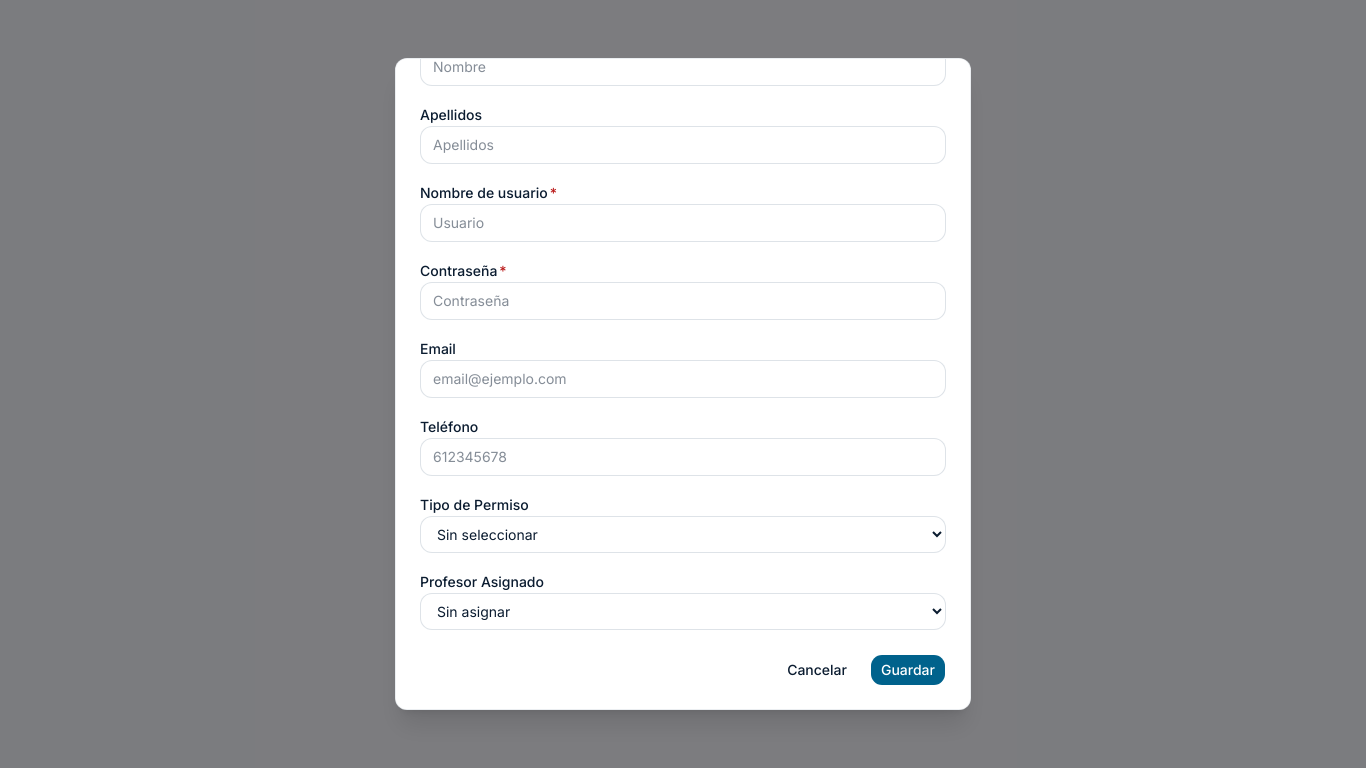
Test: CreateStudentModal › shows validation errors when submitting with empty required fields
(page scrolled)
Click the button "Guardar": click(908, 670) [870, 654, 946, 686]
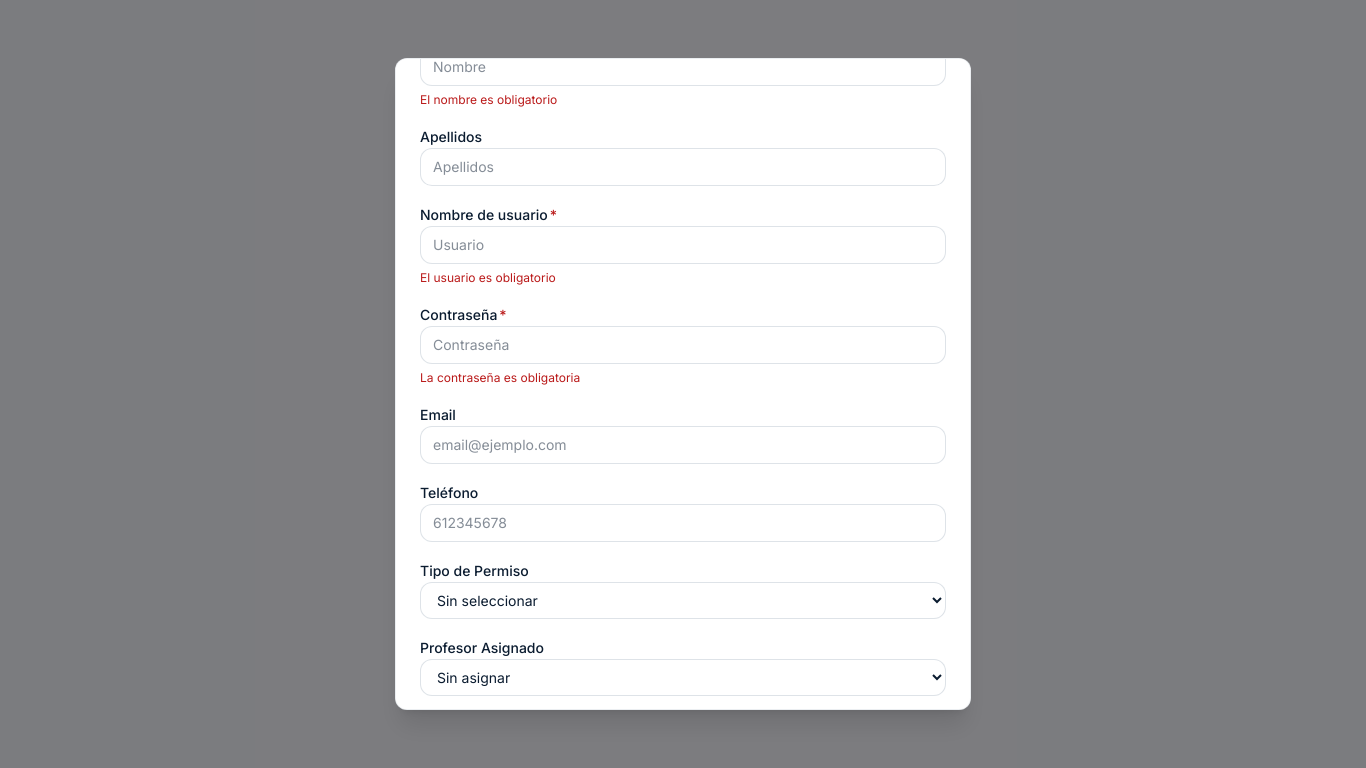
Now the text "El nombre es obligatorio" is shown, box [420, 92, 557, 107]
Now the text "El usuario es obligatorio" is shown, box [420, 270, 556, 285]
Now the text "La contraseña es obligatoria" is shown, box [420, 370, 580, 385]
